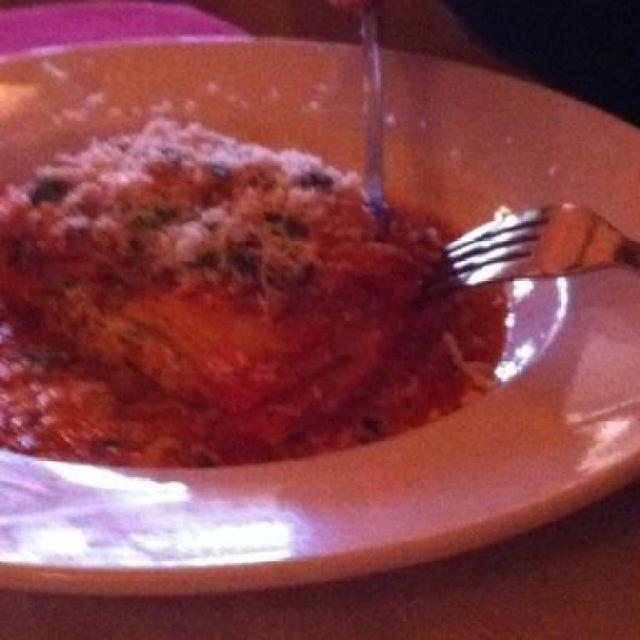Lasagna: (7, 120, 416, 432)
